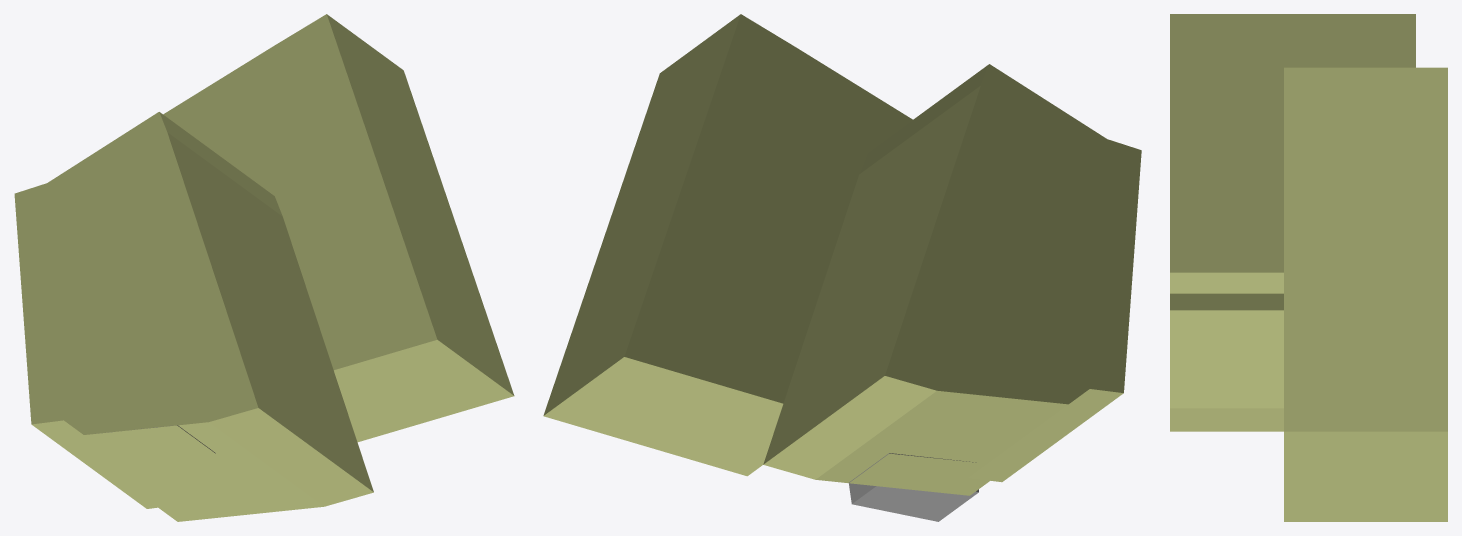
3 renders of one model, left to right at view 1: azimuth 30°, elevation 25°; view 2: azimuth 150°, elevation 25°; view 3: azimuth 270°, elevation 25°, orthographic. The views are drawn at different scales.
Visible parts, largest first — view 1: 0_1_3_2_1_2_1_2_0_1; view 2: 0_1_3_2_1_2_1_2_0_1; view 3: 0_1_3_2_1_2_1_2_0_1.
Part boxes in pixels (x1,y1,x2,y2): 0_1_3_2_1_2_1_2_0_1: (14,14,514,521); 0_1_3_2_1_2_1_2_0_1: (543,14,1141,521); 0_1_3_2_1_2_1_2_0_1: (1170,14,1447,521).
Bounding box in the file's own units: 19.69 × 16.31 × 10.17.
